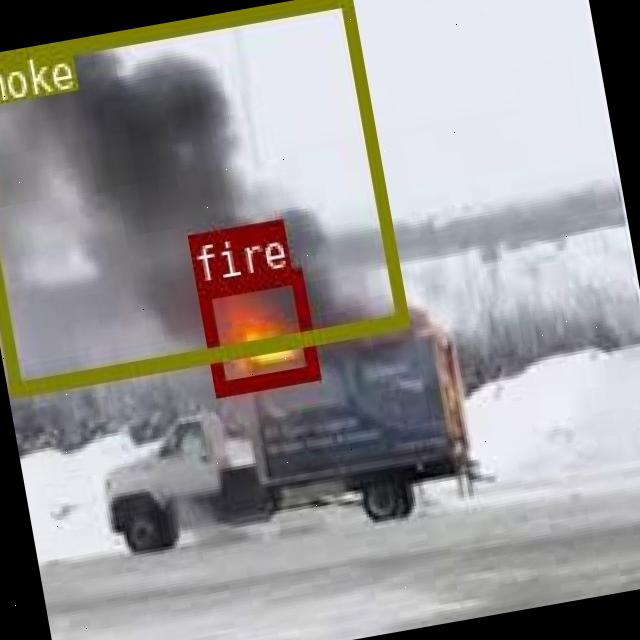fire: (195, 266, 318, 392)
smoke: (0, 0, 406, 393)
